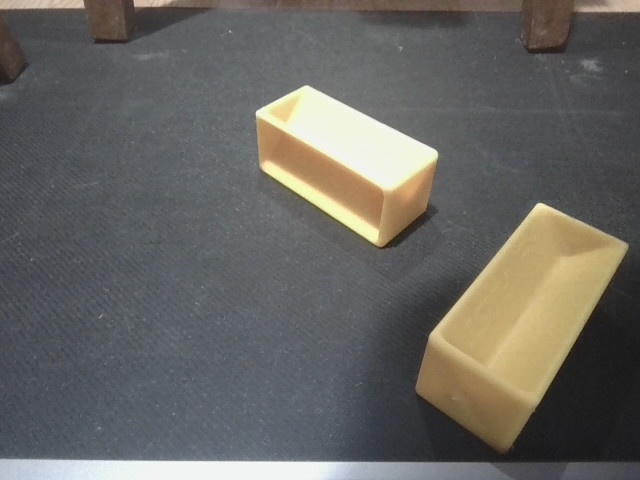YellowSample: (411, 197, 633, 458), (252, 82, 441, 252)
